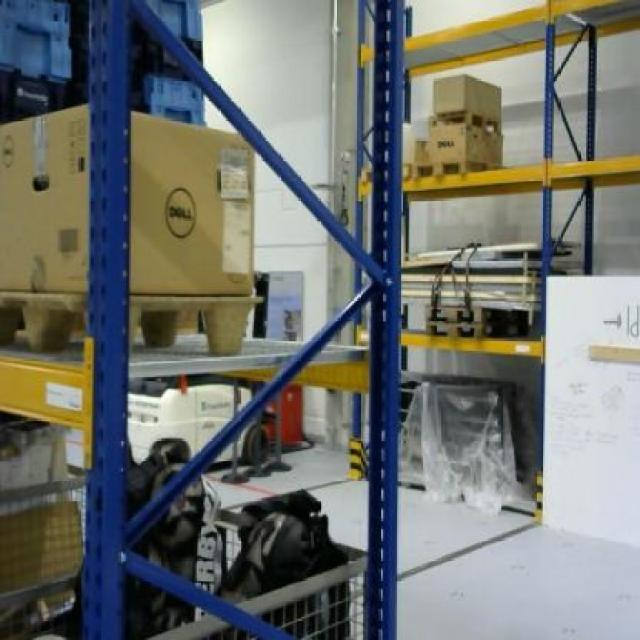box: (2, 102, 256, 293), (431, 72, 502, 118), (427, 123, 504, 162)
